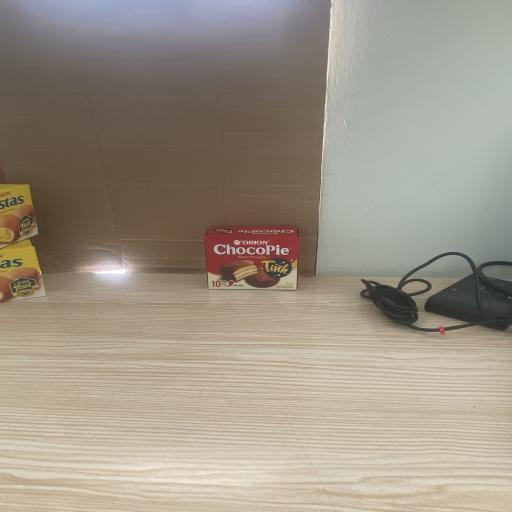chocopie: (204, 225, 300, 290)
